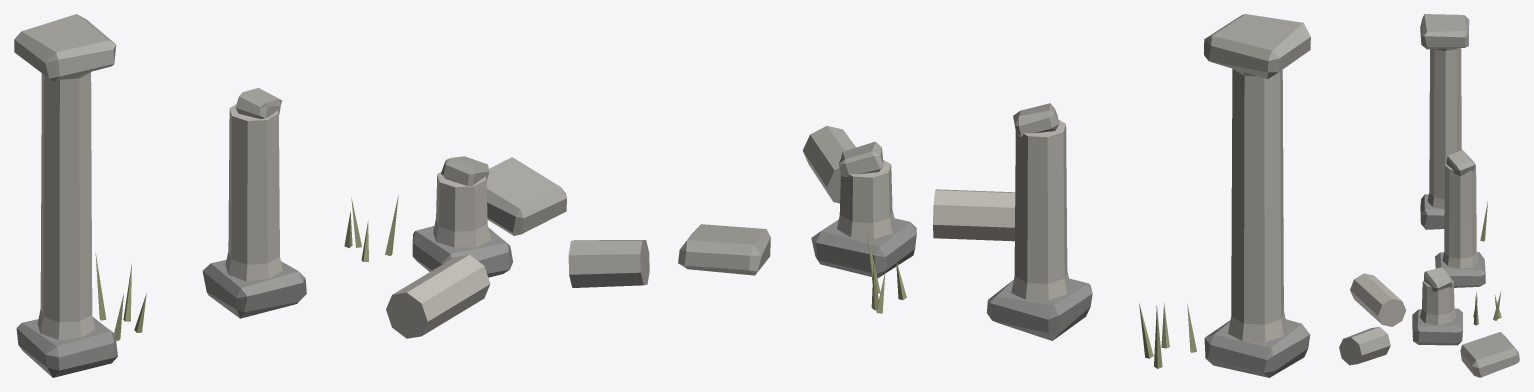
Rendered from Ruin_Columns.fbx.
3 renders of one model, left to right at view 1: azimuth 30°, elevation 25°; view 2: azimuth 150°, elevation 25°; view 3: azimuth 270°, elevation 25°, orthographic. The views are drawn at different scales.
Visible parts, largest first — view 1: Ruin_Columns; view 2: Ruin_Columns; view 3: Ruin_Columns.
Part boxes in pixels (x1,y1,x2,y2): Ruin_Columns: (14, 14, 649, 377); Ruin_Columns: (678, 14, 1310, 377); Ruin_Columns: (1339, 14, 1519, 377).
Bounding box in the file's own units: 5.36 × 3.01 × 2.44.
